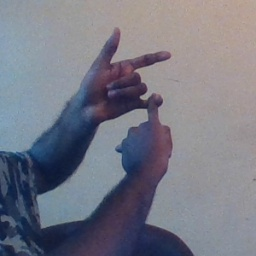S: (76, 22, 186, 163)
